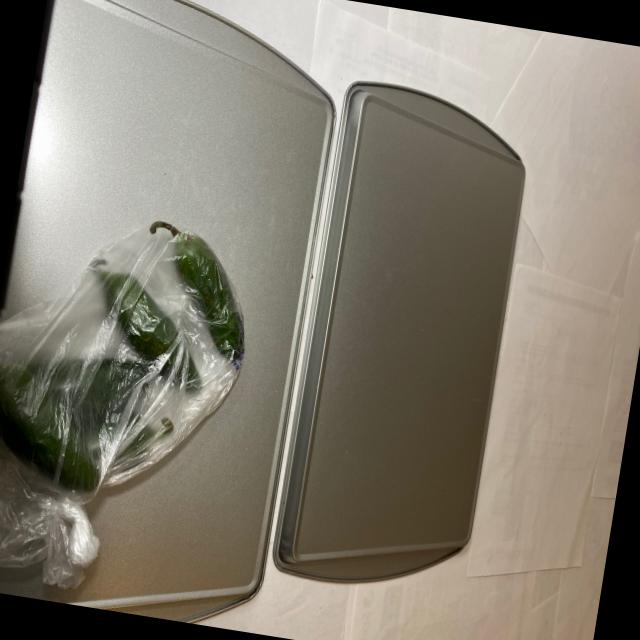chilli: (0, 198, 262, 602)
